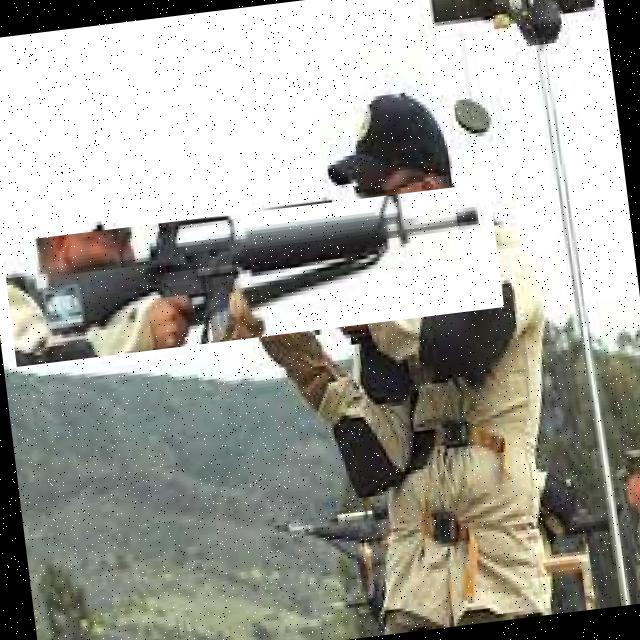fire: (1, 182, 504, 366)
